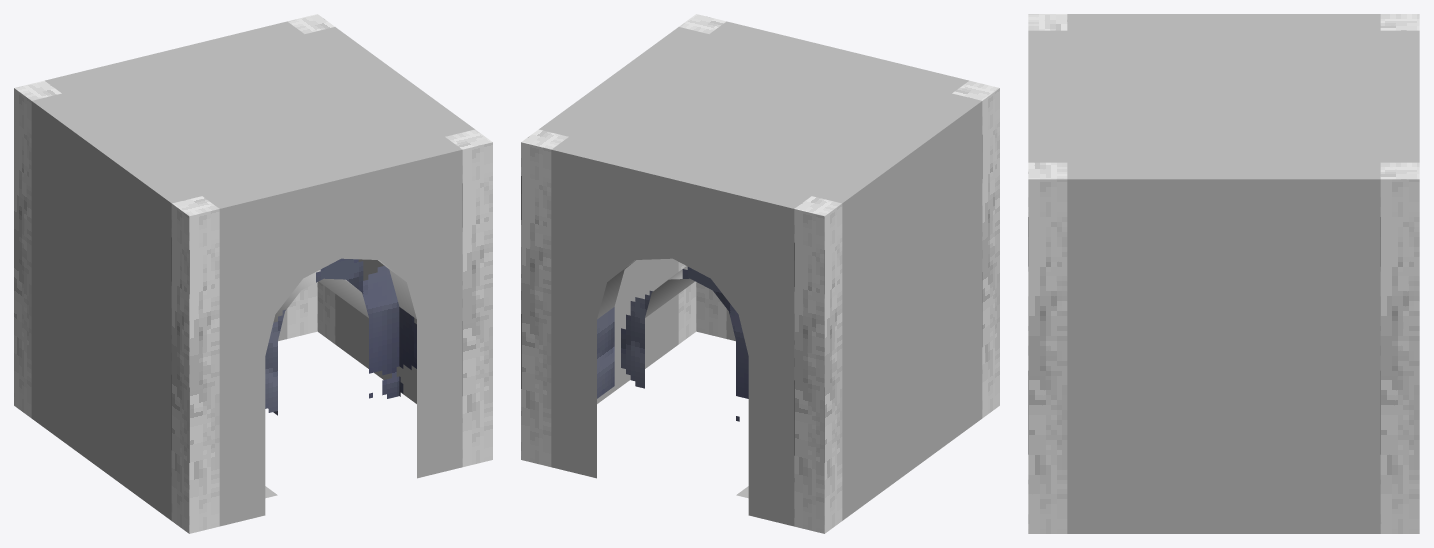
Rendered from wallFortifiedPaint_gate.dae.
3 renders of one model, left to right at view 1: azimuth 30°, elevation 25°; view 2: azimuth 150°, elevation 25°; view 3: azimuth 270°, elevation 25°, orthographic. The views are drawn at different scales.
Parts seen in each view (by area): view 1: wallFortifiedPaint_gate; view 2: wallFortifiedPaint_gate; view 3: wallFortifiedPaint_gate.
Boxes of the visible parts, x1,y1,x2,y2 form: wallFortifiedPaint_gate: (14,14,492,533); wallFortifiedPaint_gate: (521,14,999,533); wallFortifiedPaint_gate: (1028,14,1419,533).
Bounding box in the file's own units: 1 × 1 × 1.
